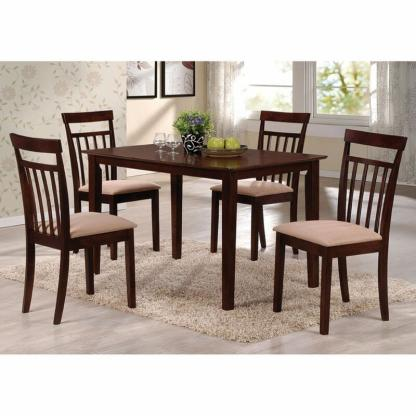Dining Table: (8, 102, 413, 336)
Wooden floor: (0, 271, 416, 356)
